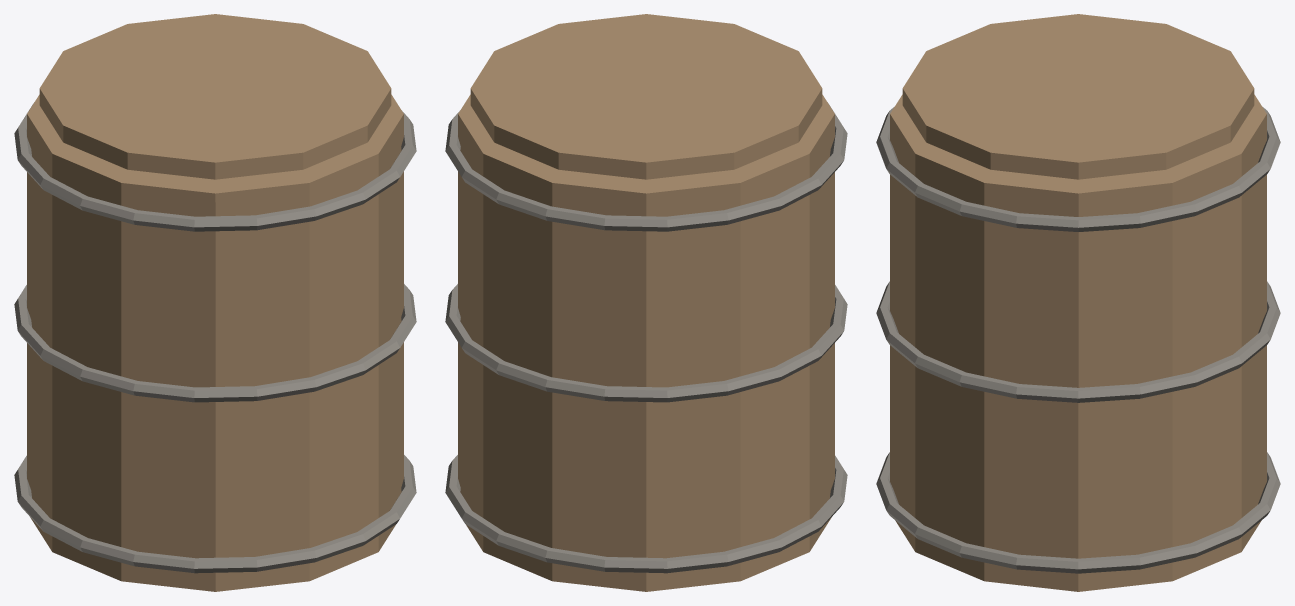
Rendered from WoodenBarrel.fbx.
3 renders of one model, left to right at view 1: azimuth 30°, elevation 25°; view 2: azimuth 150°, elevation 25°; view 3: azimuth 270°, elevation 25°, orthographic.
Parts seen in each view (by area): view 1: WoodenBarrel; view 2: WoodenBarrel; view 3: WoodenBarrel.
Part boxes in pixels (x1,y1,x2,y2): WoodenBarrel: (14,14,416,591); WoodenBarrel: (445,14,847,591); WoodenBarrel: (876,14,1280,591).
Bounding box in the file's own units: 64.4 × 74.5 × 64.4.
